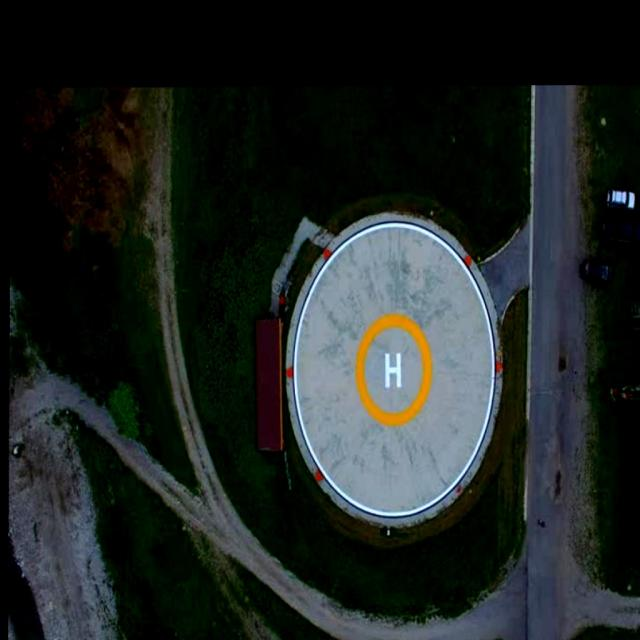helipad: (352, 309, 432, 429)
